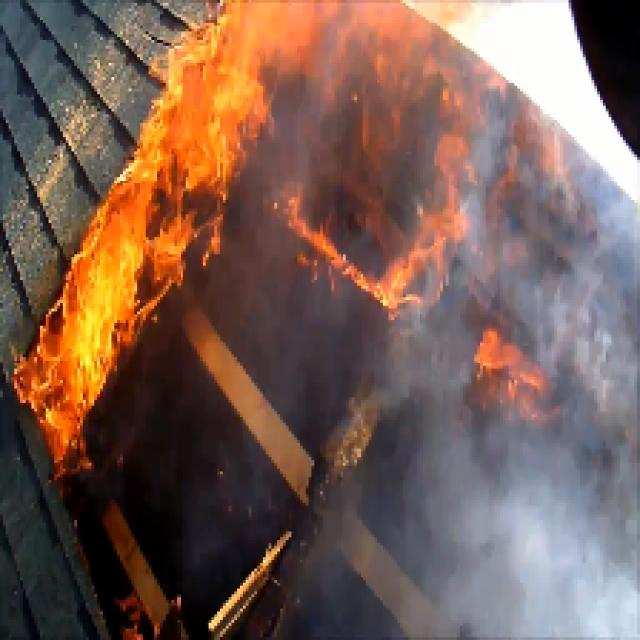fire: (151, 87, 226, 242), (48, 239, 126, 369)
smoke: (351, 397, 640, 637)
